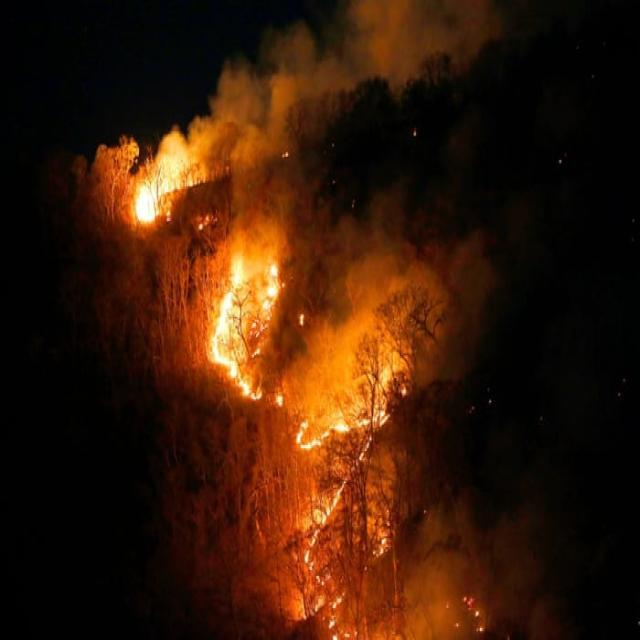Fire: (204, 261, 289, 412), (132, 180, 156, 228)
Smoke: (156, 0, 509, 423), (379, 446, 562, 640)
